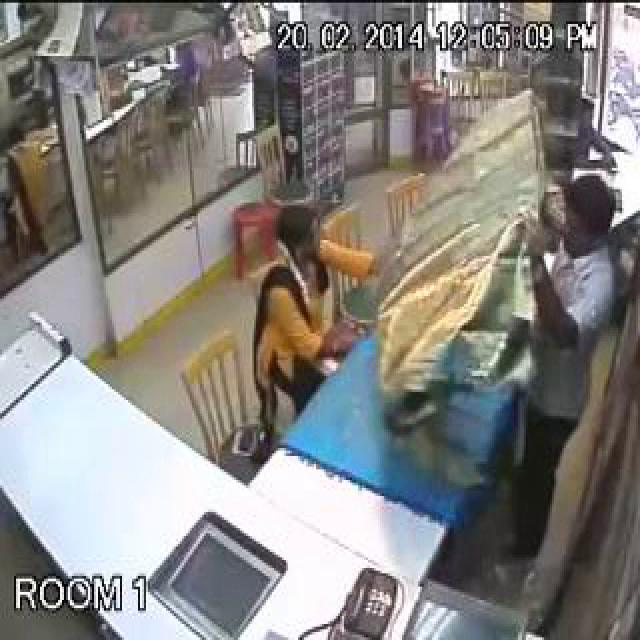shoplifting: (198, 79, 479, 490)
